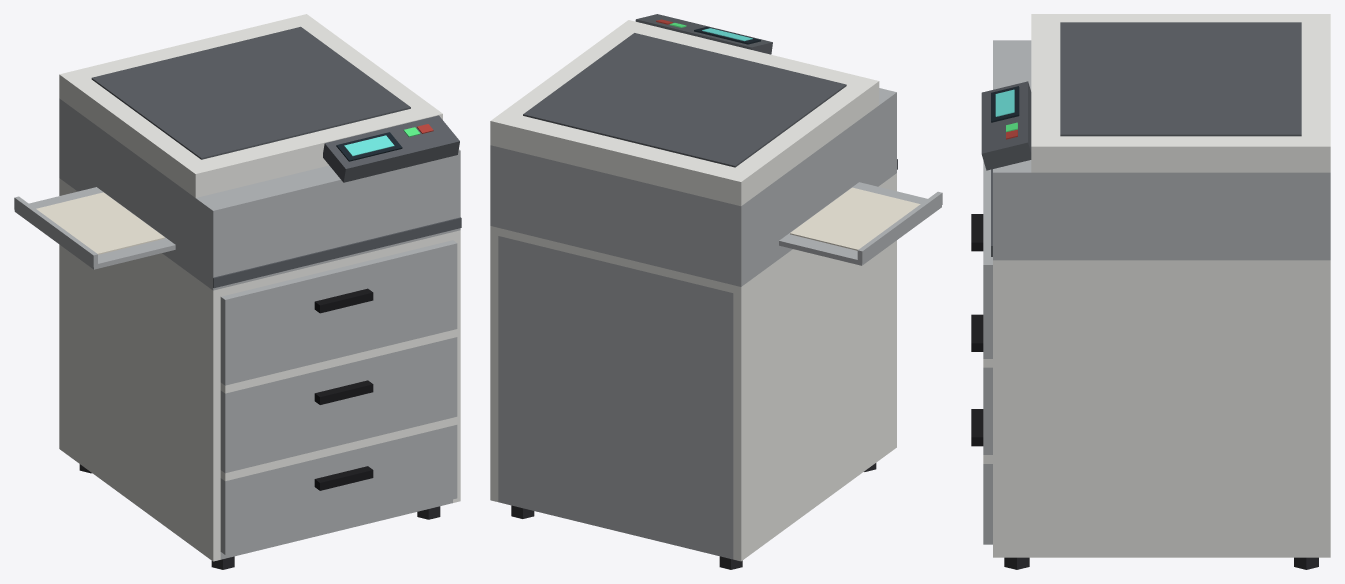
The model's file is GO_Copier_01.glb.
3 views of the same model, side by side, from view 1: azimuth 30°, elevation 25°; view 2: azimuth 150°, elevation 25°; view 3: azimuth 270°, elevation 25° (orthographic). The views are drawn at different scales.
Visible parts, largest first — view 1: GO_Copier_01, Lid, Tray3, Tray2, Tray1; view 2: GO_Copier_01, Lid; view 3: GO_Copier_01, Lid, Tray3, Tray2, Tray1.
Part boxes in pixels (bbox=[...]): GO_Copier_01: bbox=[14, 98, 461, 569]; Lid: bbox=[59, 14, 442, 197]; Tray3: bbox=[220, 240, 457, 385]; Tray2: bbox=[220, 337, 457, 473]; Tray1: bbox=[220, 425, 457, 554]; GO_Copier_01: bbox=[490, 14, 942, 569]; Lid: bbox=[490, 20, 879, 206]; GO_Copier_01: bbox=[981, 40, 1330, 569]; Lid: bbox=[1031, 14, 1330, 172]; Tray3: bbox=[971, 160, 992, 358]; Tray2: bbox=[971, 314, 992, 454]; Tray1: bbox=[971, 409, 992, 544].
Size of the model in its own units: 0.866 by 0.984 by 0.7445.
1 material, 1 textured.
